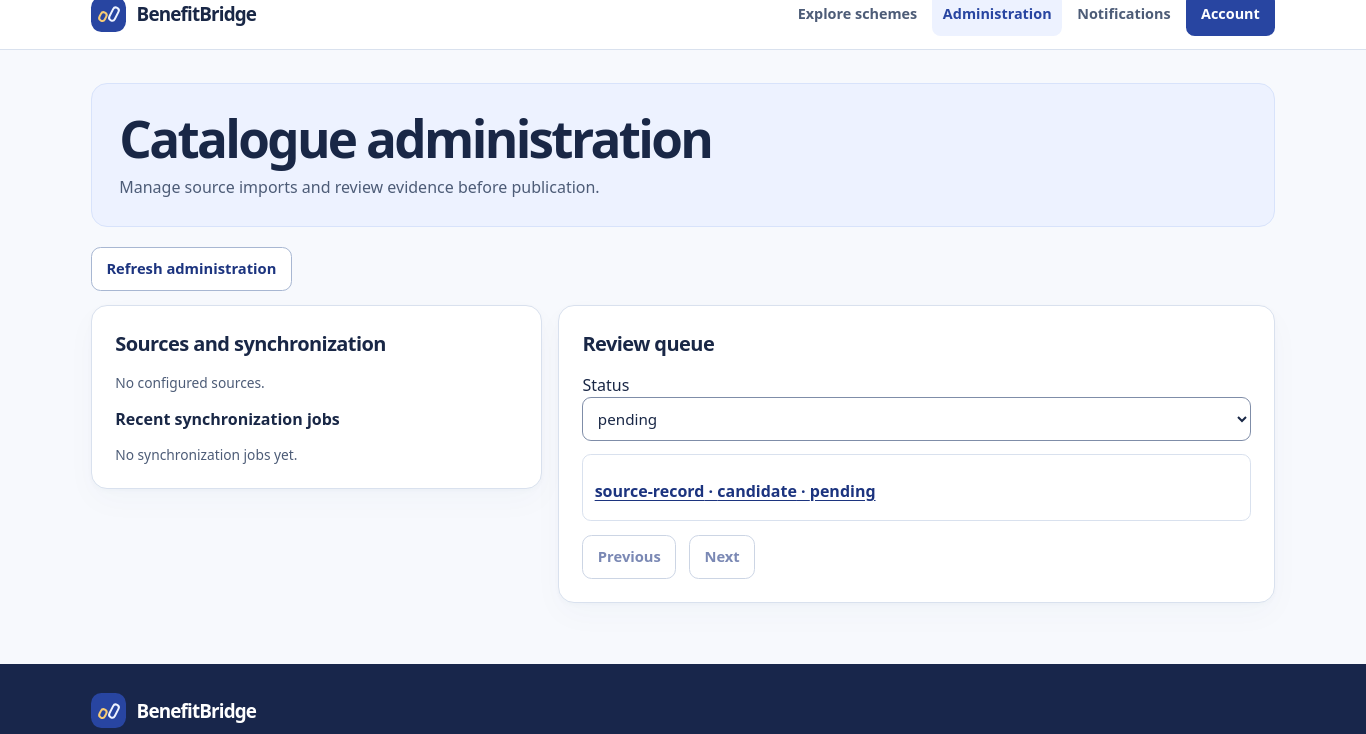
Test case: lets an administrator inspect the source and queue a review decision
Click the button "source-record · candidate · pending" at point(735, 491), box [595, 473, 876, 509]
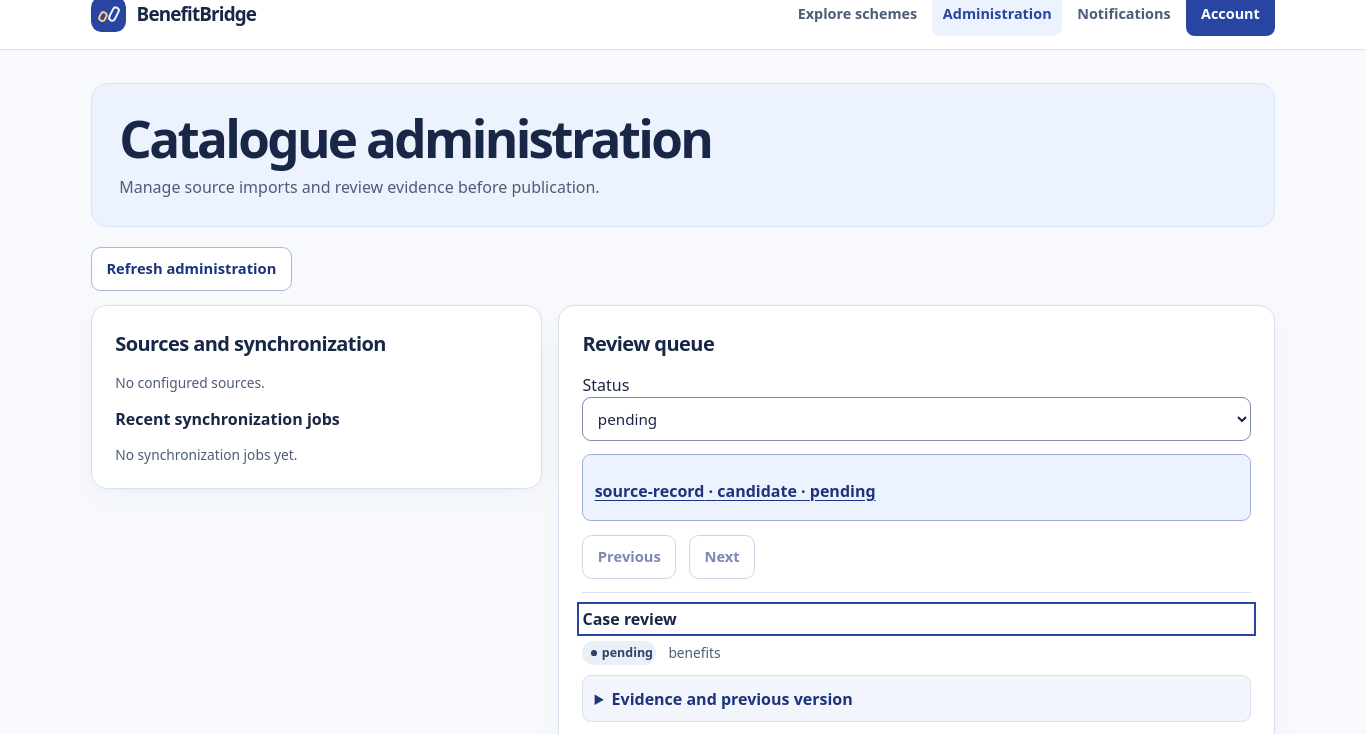
Click the heading "Evidence and previous version" at point(732, 699), box [612, 688, 853, 710]
(page scrolled)
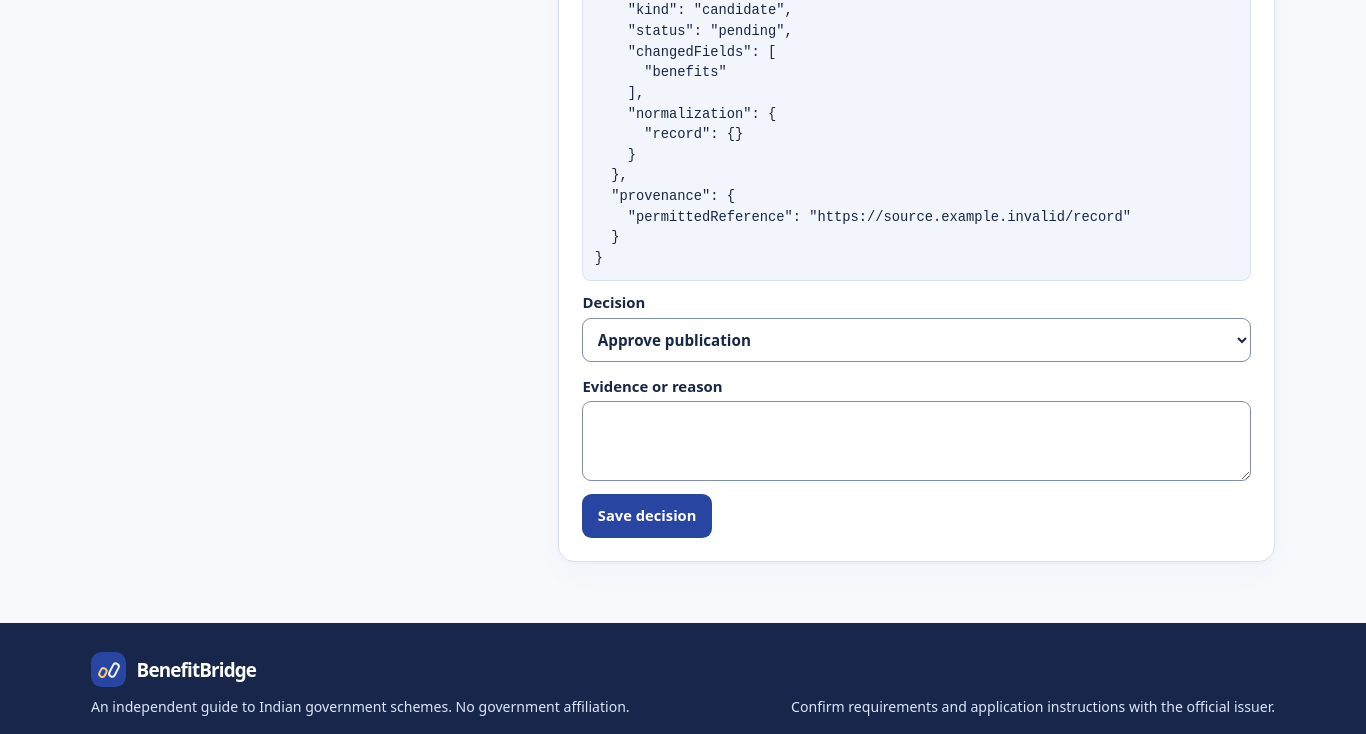
Type "Checked permitted source" into the text box labelled "Evidence or reason" at point(917, 441), box [582, 401, 1251, 481]
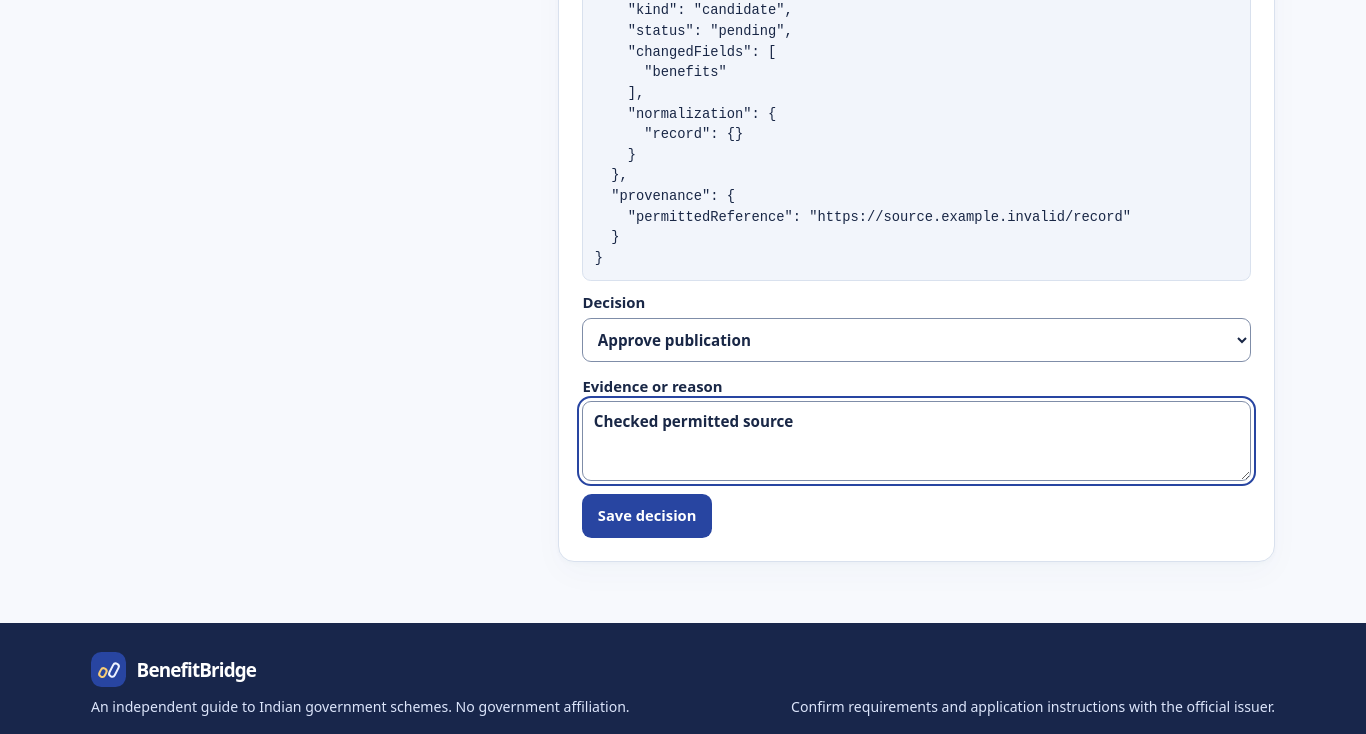
Click the button "Save decision" at point(647, 516), box [582, 494, 712, 538]
(page scrolled)
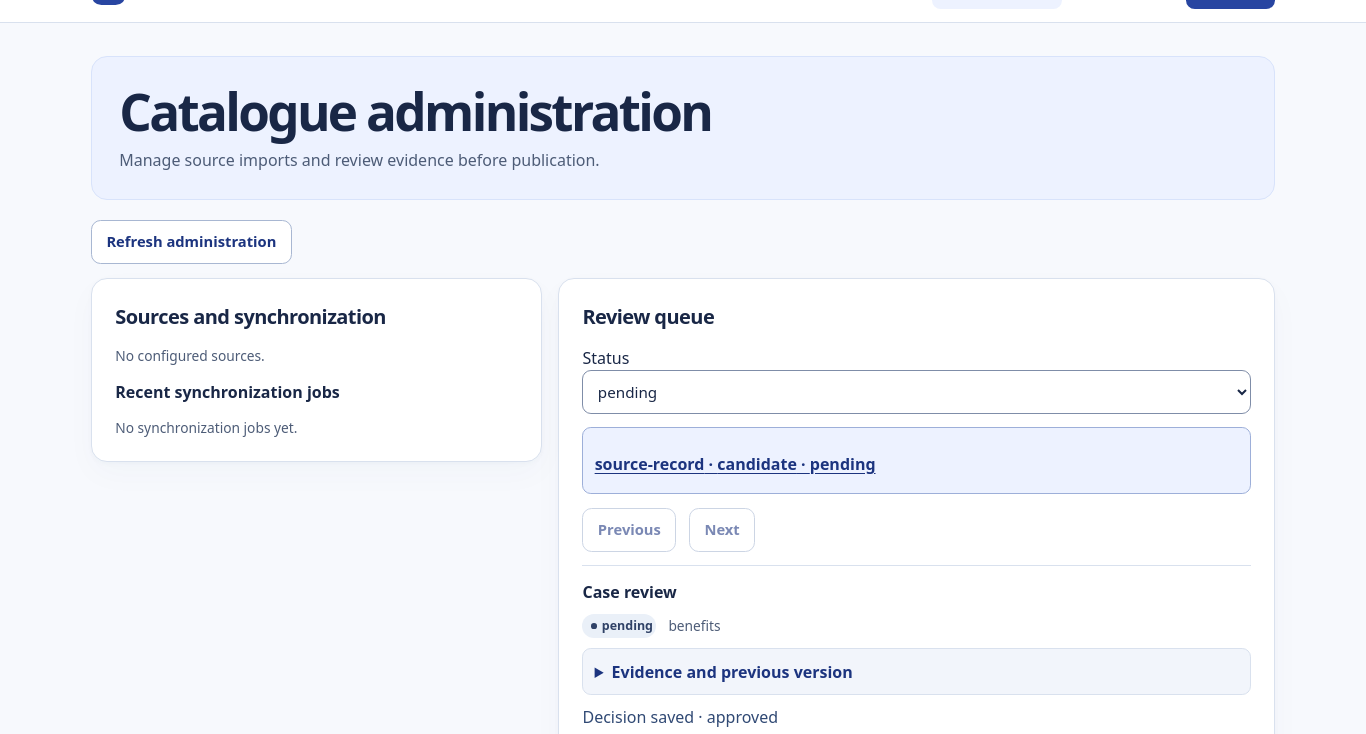
Expected: the text "Decision saved · approved" is shown, [582, 706, 778, 728]
